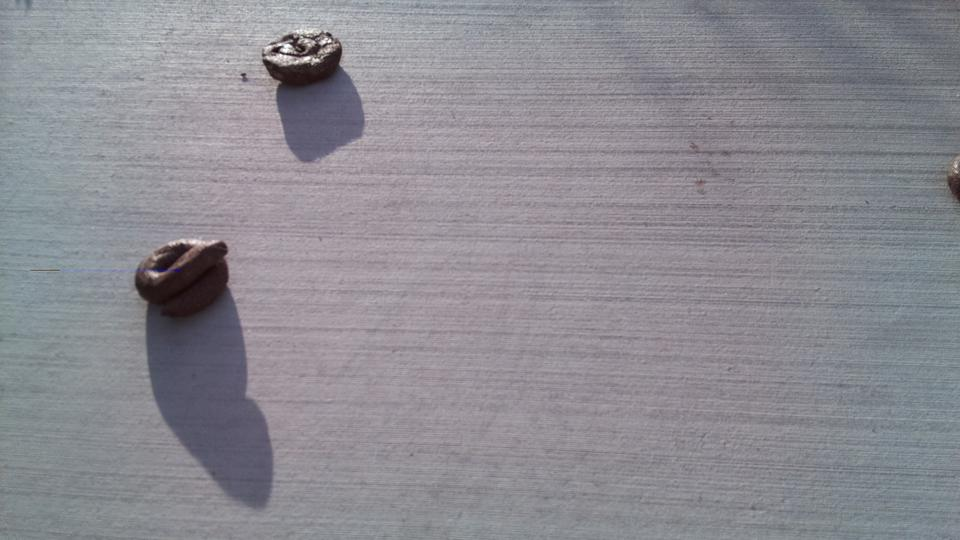poop: (132, 233, 235, 322), (258, 26, 347, 88)
